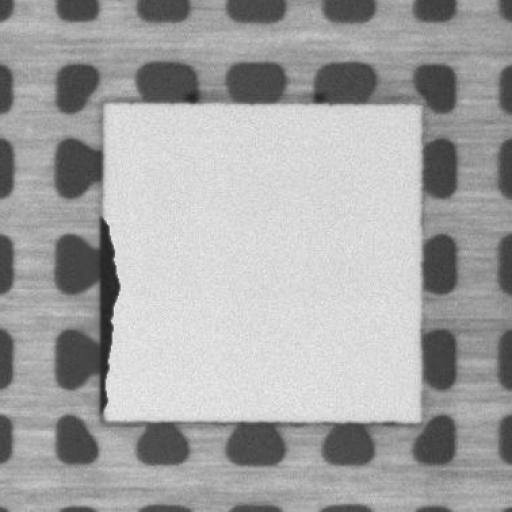DIE_BROKEN: (94, 212, 122, 422)
